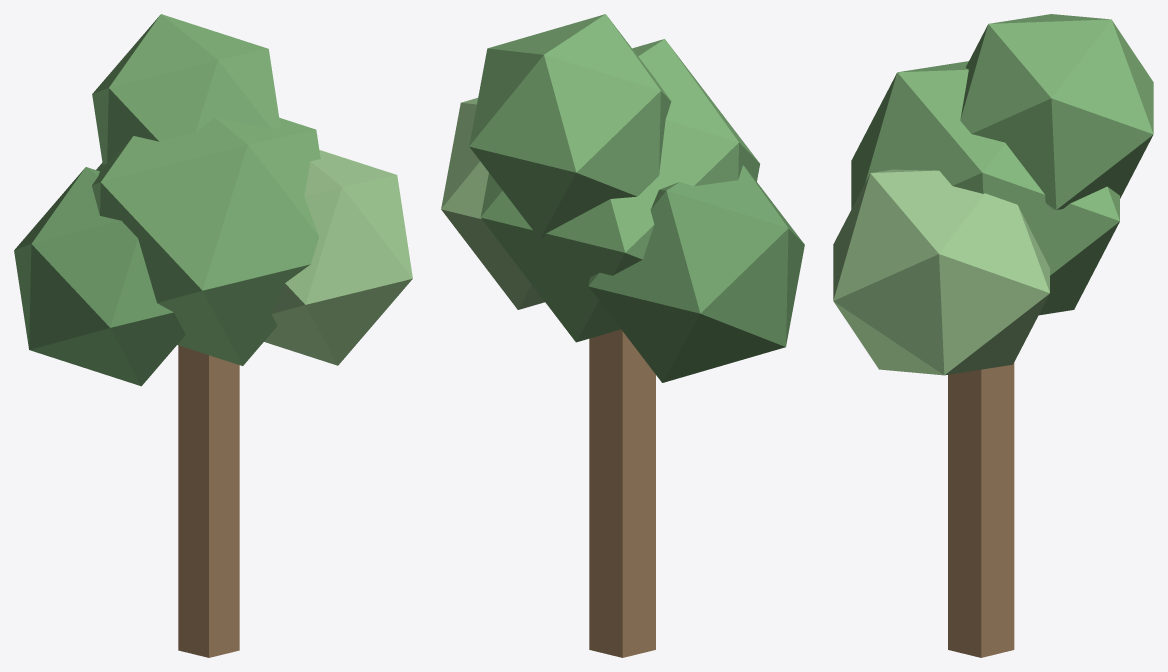
File: animprop_tree_00.glb
3 views of the same model, side by side, from view 1: azimuth 30°, elevation 25°; view 2: azimuth 150°, elevation 25°; view 3: azimuth 270°, elevation 25° (orthographic). The views are drawn at different scales.
Visible parts, largest first — view 1: animprop; view 2: animprop; view 3: animprop.
Boxes of the visible parts, x1=… form: animprop: x1=14, y1=14, x2=412, y2=657; animprop: x1=441, y1=14, x2=804, y2=657; animprop: x1=833, y1=14, x2=1153, y2=657.
Size of the model in its own units: 1.63 by 2.72 by 1.26.
